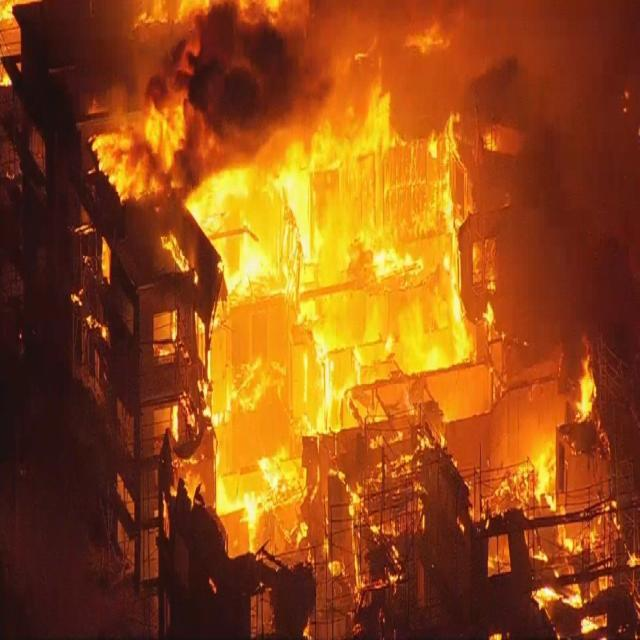Fire: (92, 0, 598, 567)
Smoke: (123, 0, 638, 314)
